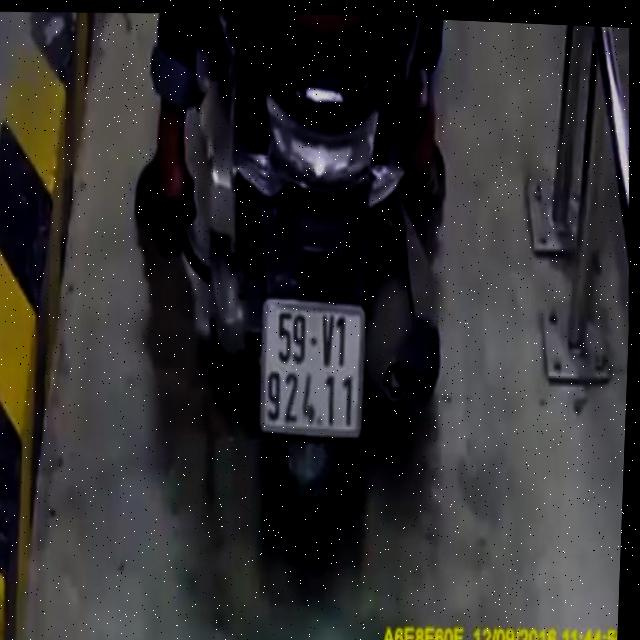motorcycle: (160, 8, 469, 564)
plate: (249, 290, 374, 444)
